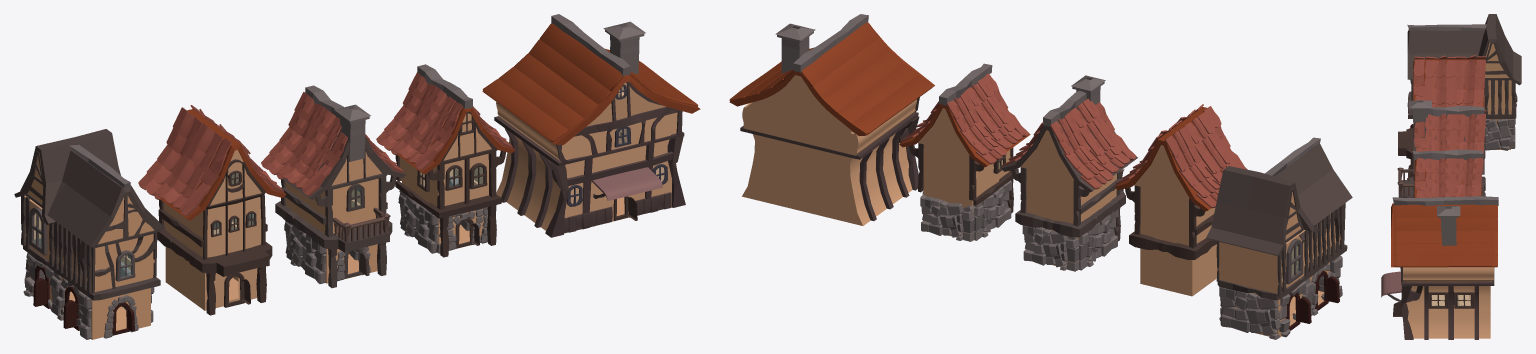
File: Set_de_casas.fbx
3 views of the same model, side by side, from view 1: azimuth 30°, elevation 25°; view 2: azimuth 150°, elevation 25°; view 3: azimuth 270°, elevation 25° (orthographic). The views are drawn at different scales.
Visible parts, largest first — view 1: Roof Woods, Building_5, Building_2, Wood Frame.007, Roof Rocks, Building_1, Roof Rocks.001, Wood Frame, Roof Rocks.002, Roof.006, Wood Frame.001, Wood Frame.002 (+31 smaller); view 2: Building_5, Roof Woods, Building_2, Roof.003, Roof Rocks.001, Roof Rocks, Roof Rocks.002, Building_4, Building_3, Building_1, Roof.006, Wood Frame.001 (+25 smaller); view 3: Roof Woods, Building_5, Roof Rocks, Roof Rocks.002, Roof Rocks.001, Roof.006, Roof.003, Wood Frame.007, Building_1, Roof.007, Side Rocks.003, Wood Frame.004 (+20 smaller).
Part boxes in pixels (left/top/right/bottom): Roof Woods: left=482, top=23, right=698, bottom=141; Building_5: left=496, top=82, right=677, bottom=233; Building_2: left=163, top=150, right=265, bottom=310; Wood Frame.007: left=494, top=82, right=684, bottom=227; Roof Rocks: left=138, top=105, right=283, bottom=216; Building_1: left=24, top=156, right=154, bottom=339; Roof Rocks.001: left=261, top=92, right=403, bottom=195; Wood Frame: left=153, top=159, right=272, bottom=315; Roof Rocks.002: left=376, top=72, right=512, bottom=170; Roof.006: left=47, top=150, right=165, bottom=247; Wood Frame.001: left=275, top=145, right=396, bottom=288; Wood Frame.002: left=395, top=122, right=506, bottom=257; Building_5: left=742, top=75, right=916, bottom=225; Roof Woods: left=729, top=22, right=932, bottom=134; Building_2: left=1134, top=145, right=1217, bottom=296; Roof.003: left=1206, top=166, right=1319, bottom=256; Roof Rocks.001: left=1001, top=98, right=1136, bottom=189; Roof Rocks: left=1115, top=104, right=1247, bottom=208; Roof Rocks.002: left=900, top=73, right=1028, bottom=164; Building_4: left=918, top=108, right=1010, bottom=241; Building_3: left=1020, top=130, right=1116, bottom=270; Building_1: left=1218, top=192, right=1340, bottom=338; Roof.006: left=1274, top=143, right=1352, bottom=225; Wood Frame.001: left=1011, top=166, right=1126, bottom=241; Roof Woods: left=1394, top=204, right=1497, bottom=267; Building_5: left=1403, top=267, right=1493, bottom=338; Roof Rocks: left=1413, top=55, right=1485, bottom=107; Roof Rocks.002: left=1415, top=158, right=1482, bottom=197; Roof Rocks.001: left=1414, top=110, right=1486, bottom=172; Roof.006: left=1407, top=30, right=1484, bottom=79; Roof.003: left=1478, top=14, right=1521, bottom=85; Wood Frame.007: left=1400, top=267, right=1494, bottom=339; Building_1: left=1484, top=42, right=1511, bottom=149; Roof.007: left=1392, top=196, right=1498, bottom=206; Side Rocks.003: left=1484, top=119, right=1511, bottom=150; Wood Frame.004: left=1484, top=80, right=1515, bottom=115.
Bounding box in the file's own units: 23484 × 6292 × 6414.
